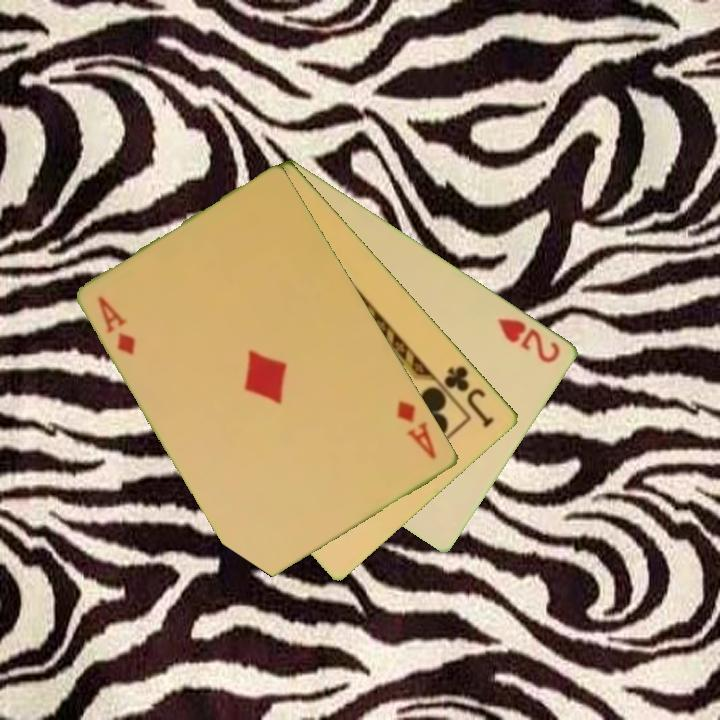2h: (494, 314, 564, 366)
Ad: (394, 396, 440, 463), (95, 293, 139, 358)
Jc: (441, 362, 498, 431)
